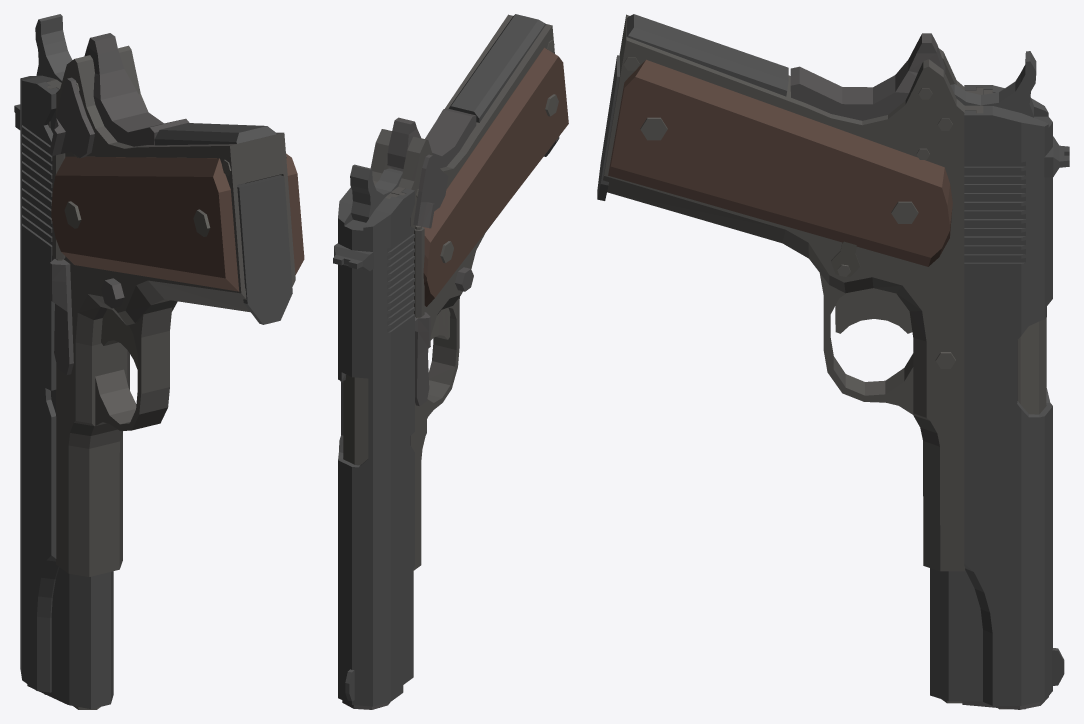
File: lxxx.glb
The picture shows the model from 3 angles, left to right: view 1: azimuth 30°, elevation 25°; view 2: azimuth 150°, elevation 25°; view 3: azimuth 270°, elevation 25°; orthographic projection. The views are drawn at different scales.
Visible parts, largest first — view 1: Cube_Material_0, Cube_Material.004_0, Cube_Material.007_0, Cube_Material.006_0, Cube_Material.005_0, Cube_Material.008_0; view 2: Cube_Material_0, Cube_Material.007_0, Cube_Material.004_0, Cube_Material.006_0, Cube_Material.005_0, Cube_Material.008_0; view 3: Cube_Material_0, Cube_Material.004_0, Cube_Material.007_0, Cube_Material.005_0, Cube_Material.006_0, Cube_Material.008_0.
Part boxes in pixels (box(x1,y1,x2,y2)): Cube_Material_0: box(14, 75, 292, 708); Cube_Material.004_0: box(46, 45, 295, 576); Cube_Material.007_0: box(51, 153, 304, 291); Cube_Material.006_0: box(27, 33, 189, 704); Cube_Material.005_0: box(44, 82, 286, 709); Cube_Material.008_0: box(35, 14, 72, 82); Cube_Material_0: box(333, 14, 559, 706); Cube_Material.007_0: box(423, 47, 568, 306); Cube_Material.004_0: box(370, 14, 554, 570); Cube_Material.006_0: box(342, 108, 476, 709); Cube_Material.005_0: box(343, 40, 558, 465); Cube_Material.008_0: box(350, 164, 402, 222); Cube_Material_0: box(597, 14, 1069, 705); Cube_Material.004_0: box(603, 14, 993, 571); Cube_Material.007_0: box(608, 59, 952, 266); Cube_Material.005_0: box(623, 57, 1046, 709); Cube_Material.006_0: box(790, 33, 1048, 709); Cube_Material.008_0: box(950, 51, 1036, 117).
Bounding box in the file's own units: 15562 × 122893 × 77504.
